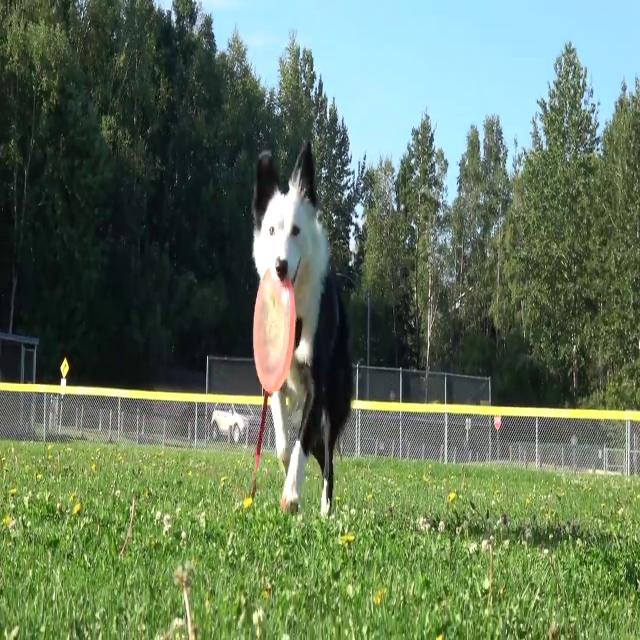Dog: (253, 139, 354, 517)
